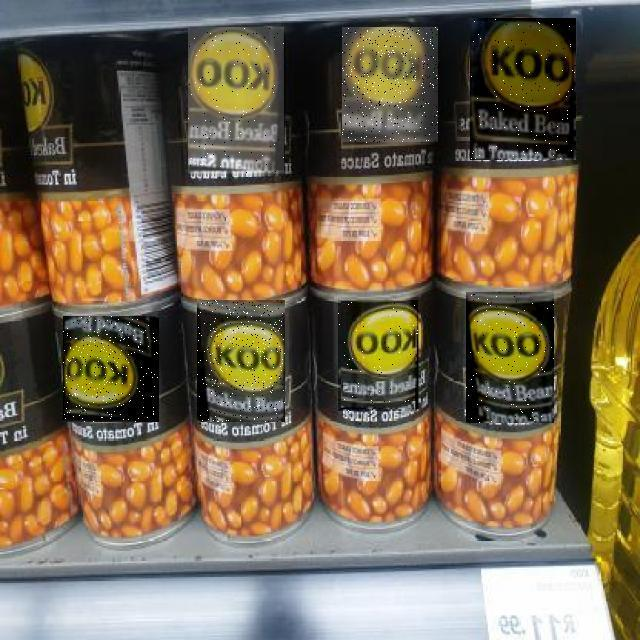Beans: (470, 18, 576, 160), (188, 28, 284, 176), (466, 292, 554, 423), (342, 28, 438, 144), (197, 300, 285, 422), (63, 316, 159, 422), (339, 300, 419, 411)
